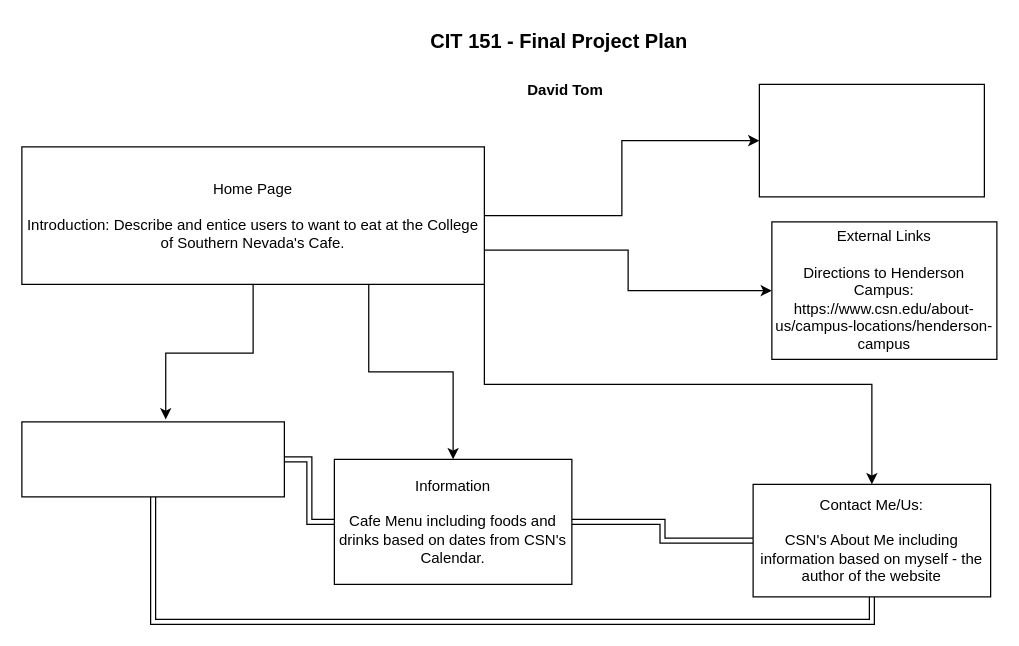
Image size: 1019x646. Some labels were removed from this diagram. Each missing label, with the centre of its shape:
External Links CSN's Food Service Website: https://www.csn.edu/food-service: pixel 871 140
Photo Gallery Food and drinks offered by the institution's Cafe menu.: pixel 152 459
